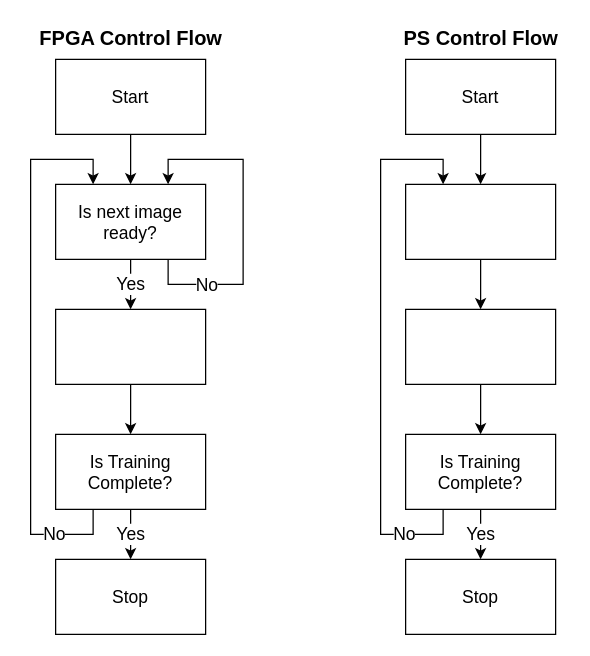
Some shapes in this 590 by 656 pixel diagram are drawn without their labels. The shapes that lost their labels are listed below. From the top down, each one's centre as x and y in pixels, then its label:
the point at 480,221: Read current FPGA image ID
the point at 130,346: Process image
the point at 480,346: Write next image to FPGA
